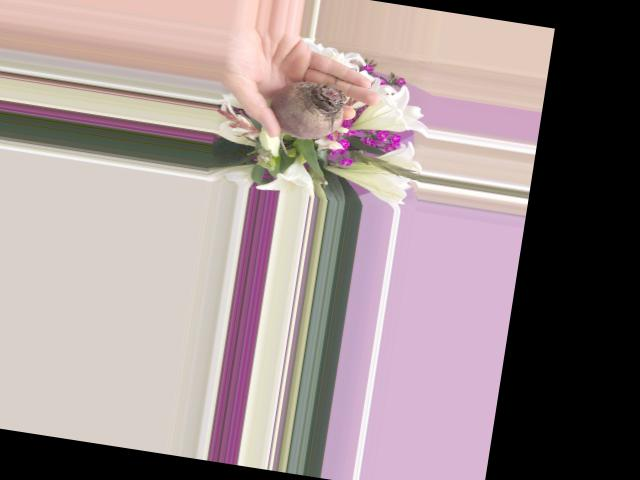beet: (263, 76, 348, 162)
